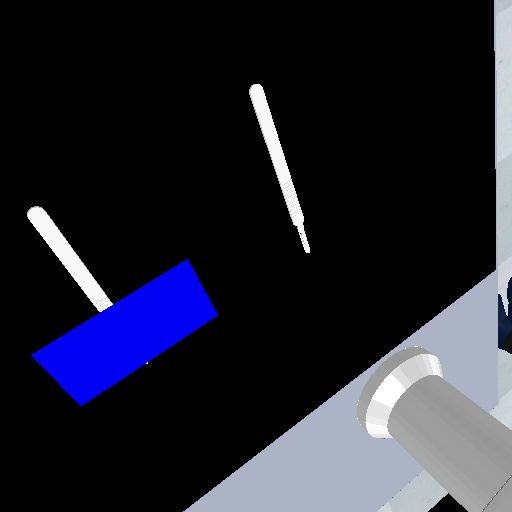bisturi: (245, 78, 315, 256), (23, 203, 114, 316)
